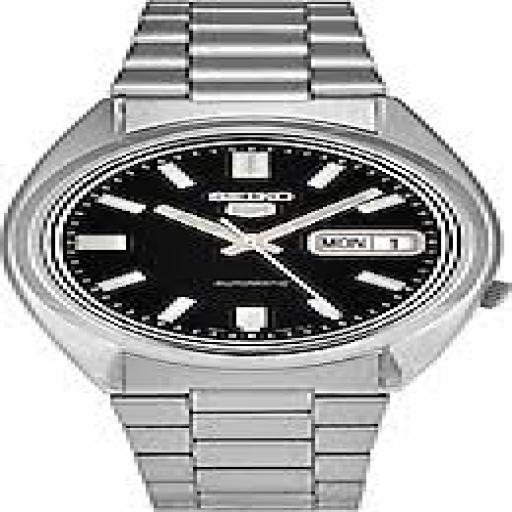KolSaati: (8, 5, 512, 512)
